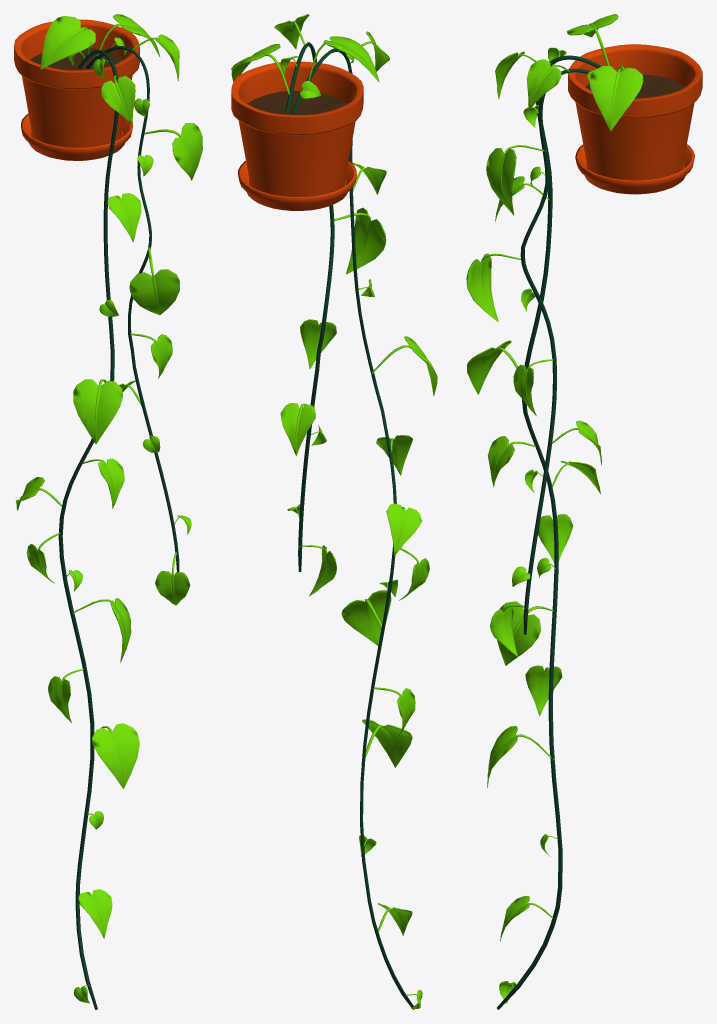
The model's file is PothosPlant_no1_modell_alvin_001.fbx.
3 renders of one model, left to right at view 1: azimuth 30°, elevation 25°; view 2: azimuth 150°, elevation 25°; view 3: azimuth 270°, elevation 25°, orthographic. The views are drawn at different scales.
Parts seen in each view (by area): view 1: pothos; view 2: pothos; view 3: pothos.
Part boxes in pixels (left/top/right/bottom): pothos: left=14, top=14, right=202, bottom=1009; pothos: left=231, top=14, right=437, bottom=1009; pothos: left=466, top=14, right=702, bottom=1009.
Size of the model in its own units: 767 by 4374 by 931.
